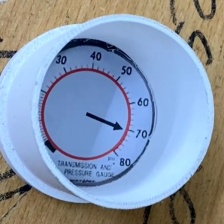gauge: (39, 40, 152, 187)
